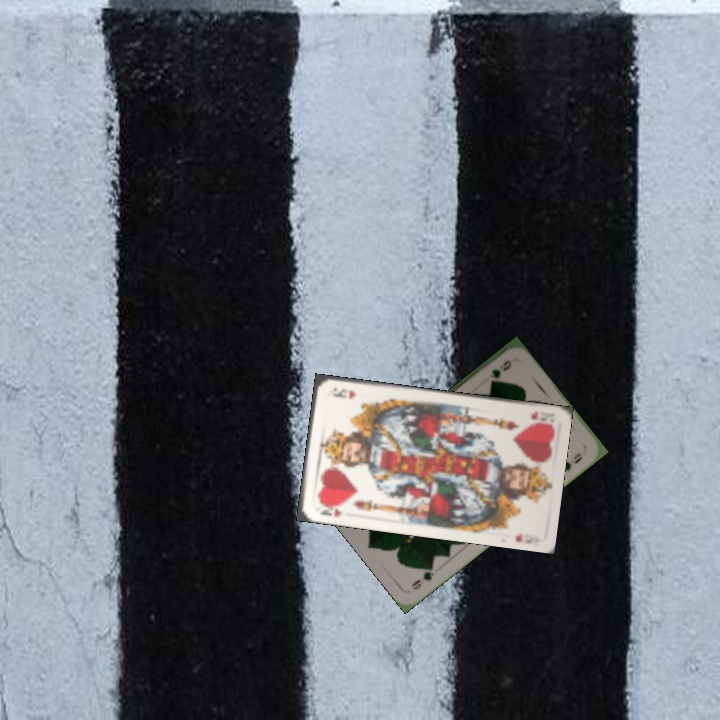G9: (407, 561, 437, 592), (486, 356, 514, 385)
HK: (315, 499, 344, 519), (527, 407, 552, 424)
